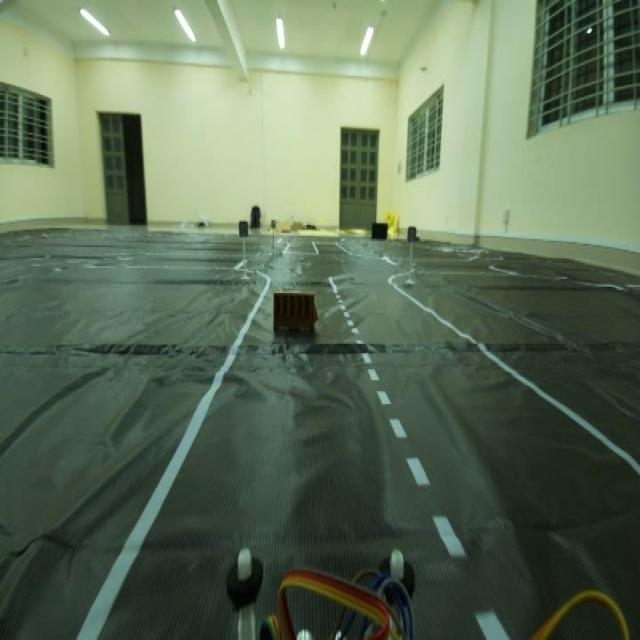roadblock: (269, 284, 320, 342)
